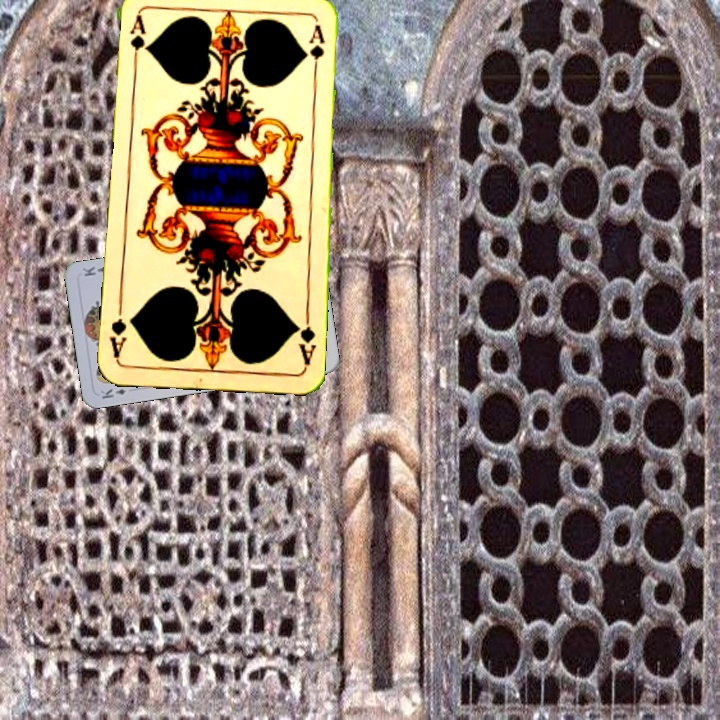EK: (96, 384, 128, 402)
GA: (291, 310, 318, 369), (125, 11, 148, 70)
